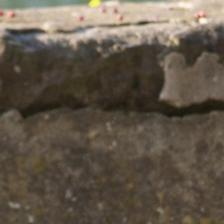Crack: (5, 99, 224, 130)
